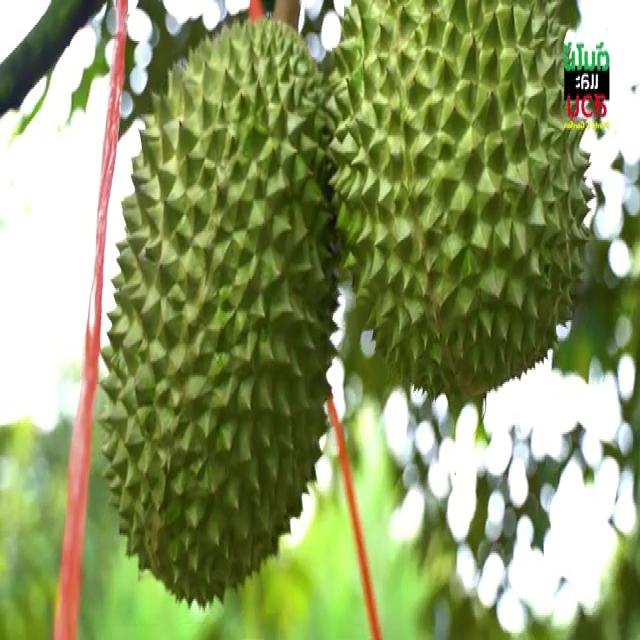durian: (94, 10, 350, 612), (322, 0, 597, 411)
